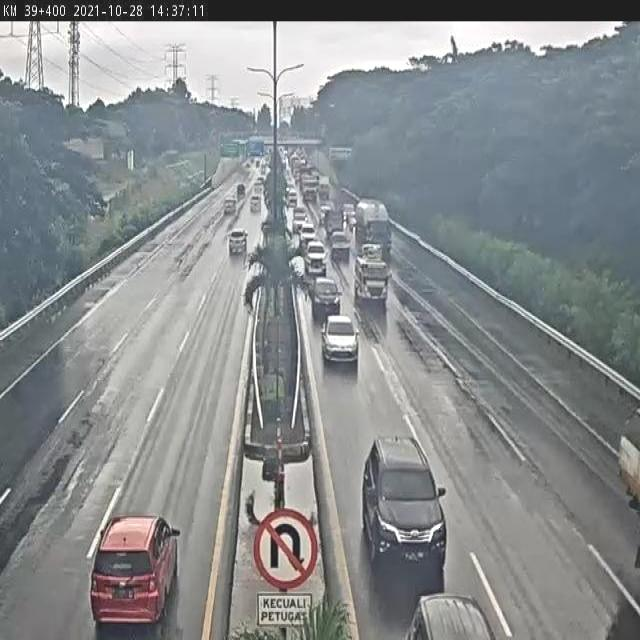Car: (362, 434, 452, 566), (90, 516, 182, 630), (320, 314, 360, 365), (311, 276, 343, 317), (304, 241, 329, 274), (229, 226, 250, 254)
Truck: (356, 253, 390, 302)
